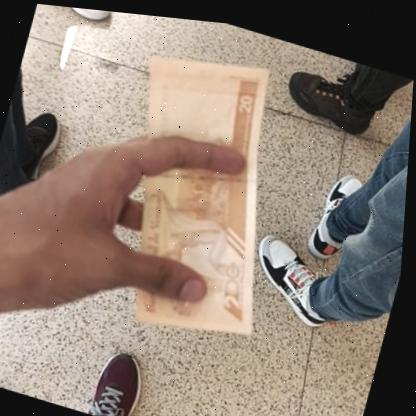twenty-back-vef: (84, 27, 320, 354)
